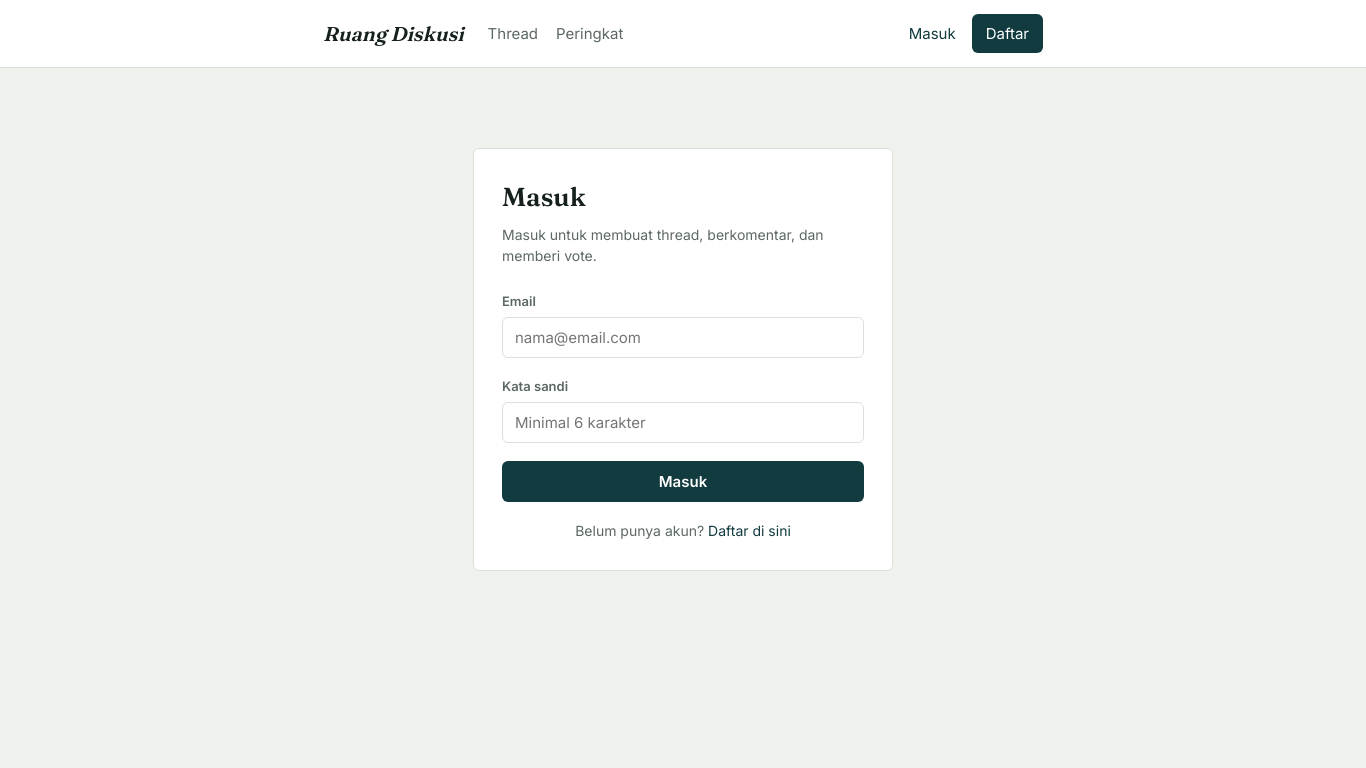
Test case: Login flow › should display an alert message when the credentials are wrong
Step 1. Type "salah@mail.com" into the field with id "email" → coordinates (683, 338), box x1=502 y1=317 x2=864 y2=358
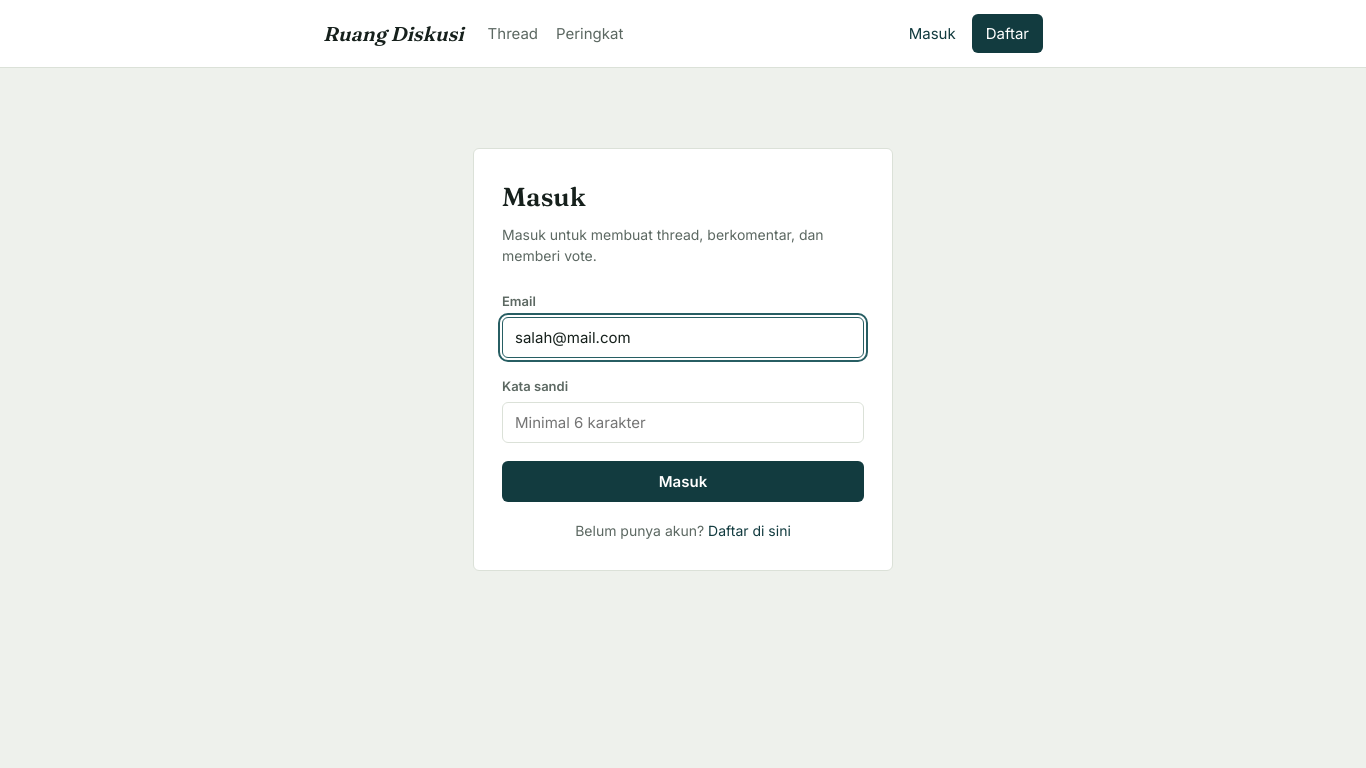
Step 2. Type "salahsandi" into the password field labelled "Kata sandi" → coordinates (683, 423), box x1=502 y1=402 x2=864 y2=443
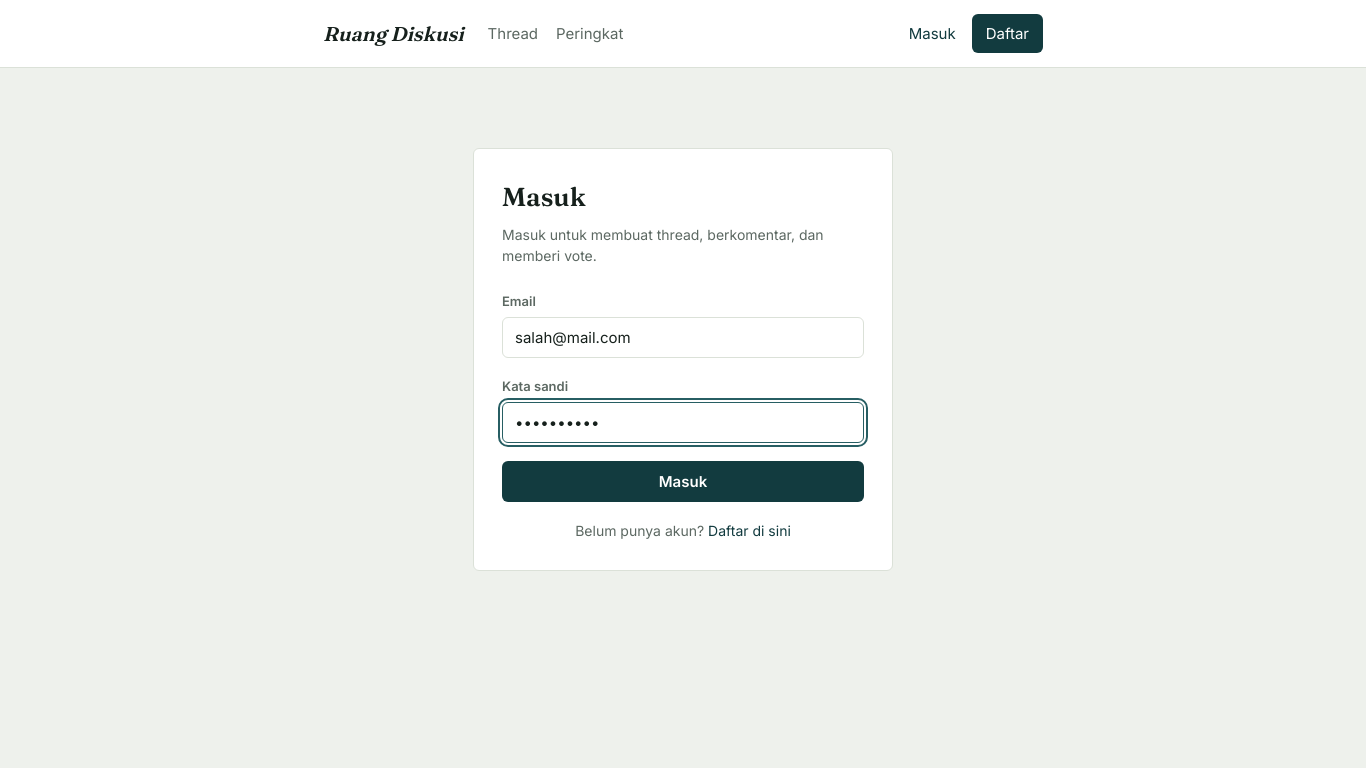
Step 3. Click the submit button → coordinates (683, 482), box x1=502 y1=461 x2=864 y2=502
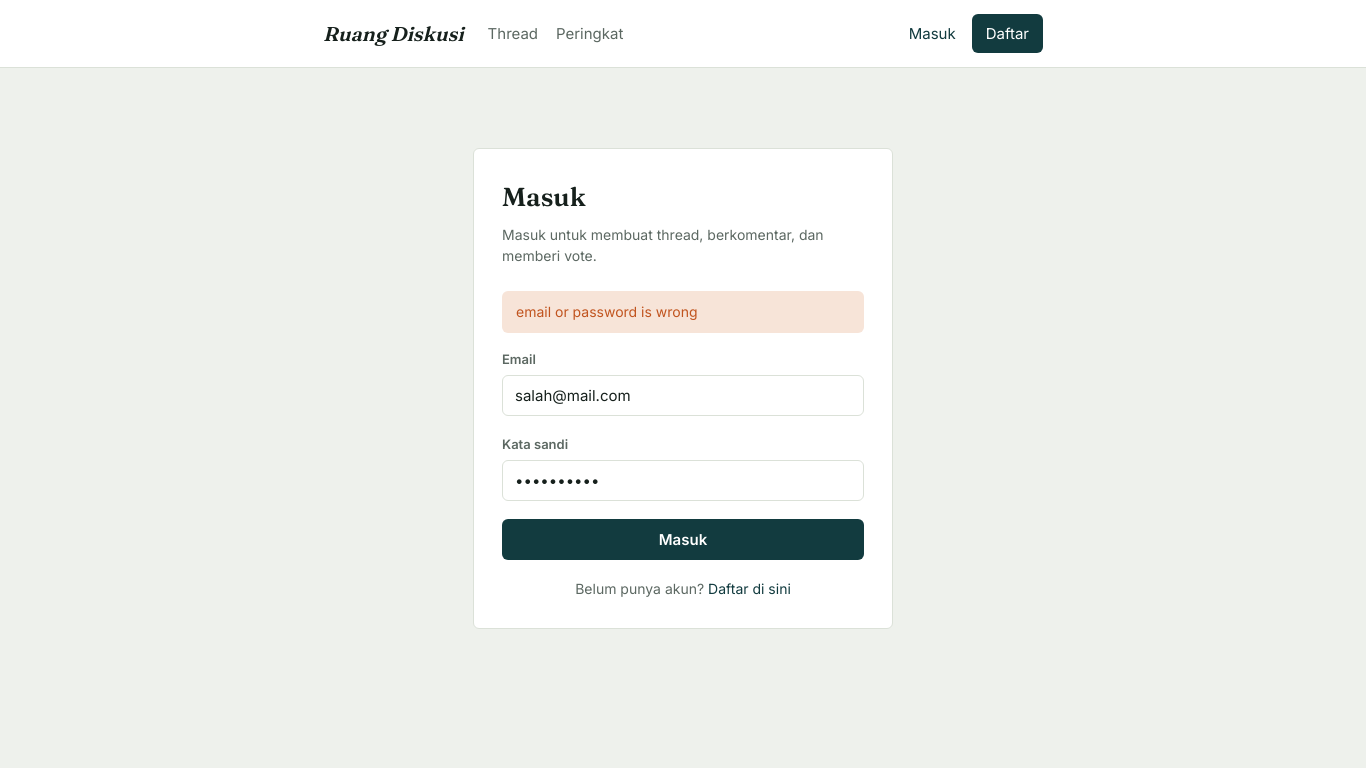
expect the text "email or password is wrong" is shown: met, box x1=502 y1=291 x2=864 y2=333
